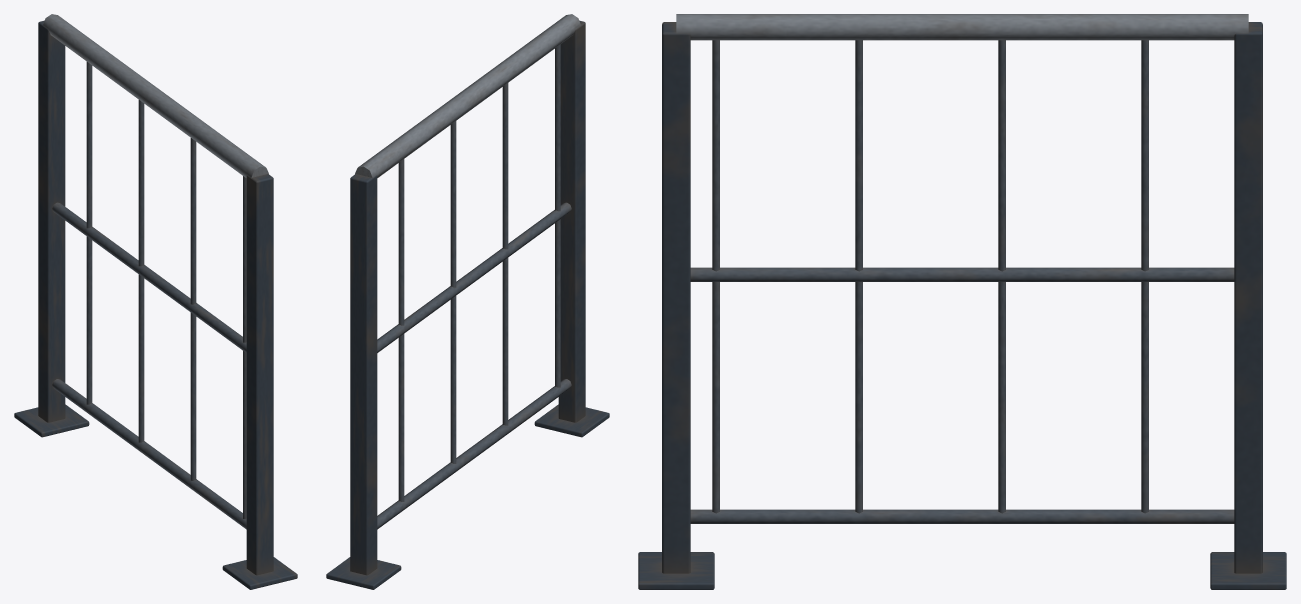
The model's file is ul_balustrada.glb.
3 renders of one model, left to right at view 1: azimuth 30°, elevation 25°; view 2: azimuth 150°, elevation 25°; view 3: azimuth 270°, elevation 25°, orthographic. The views are drawn at different scales.
Parts seen in each view (by area): view 1: Balustrada; view 2: Balustrada; view 3: Balustrada.
Part boxes in pixels (x1,y1,x2,y2): Balustrada: [14, 14, 297, 589]; Balustrada: [326, 14, 609, 589]; Balustrada: [638, 14, 1286, 589].
Size of the model in its own units: 0.12 by 0.972 by 1.02.
1 material, 1 textured.
